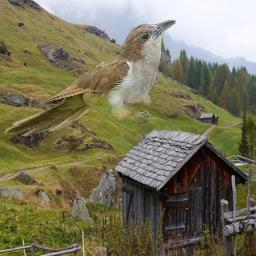Cuckoo: (3, 19, 176, 136)
